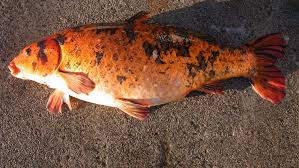carp: (6, 11, 289, 123)
